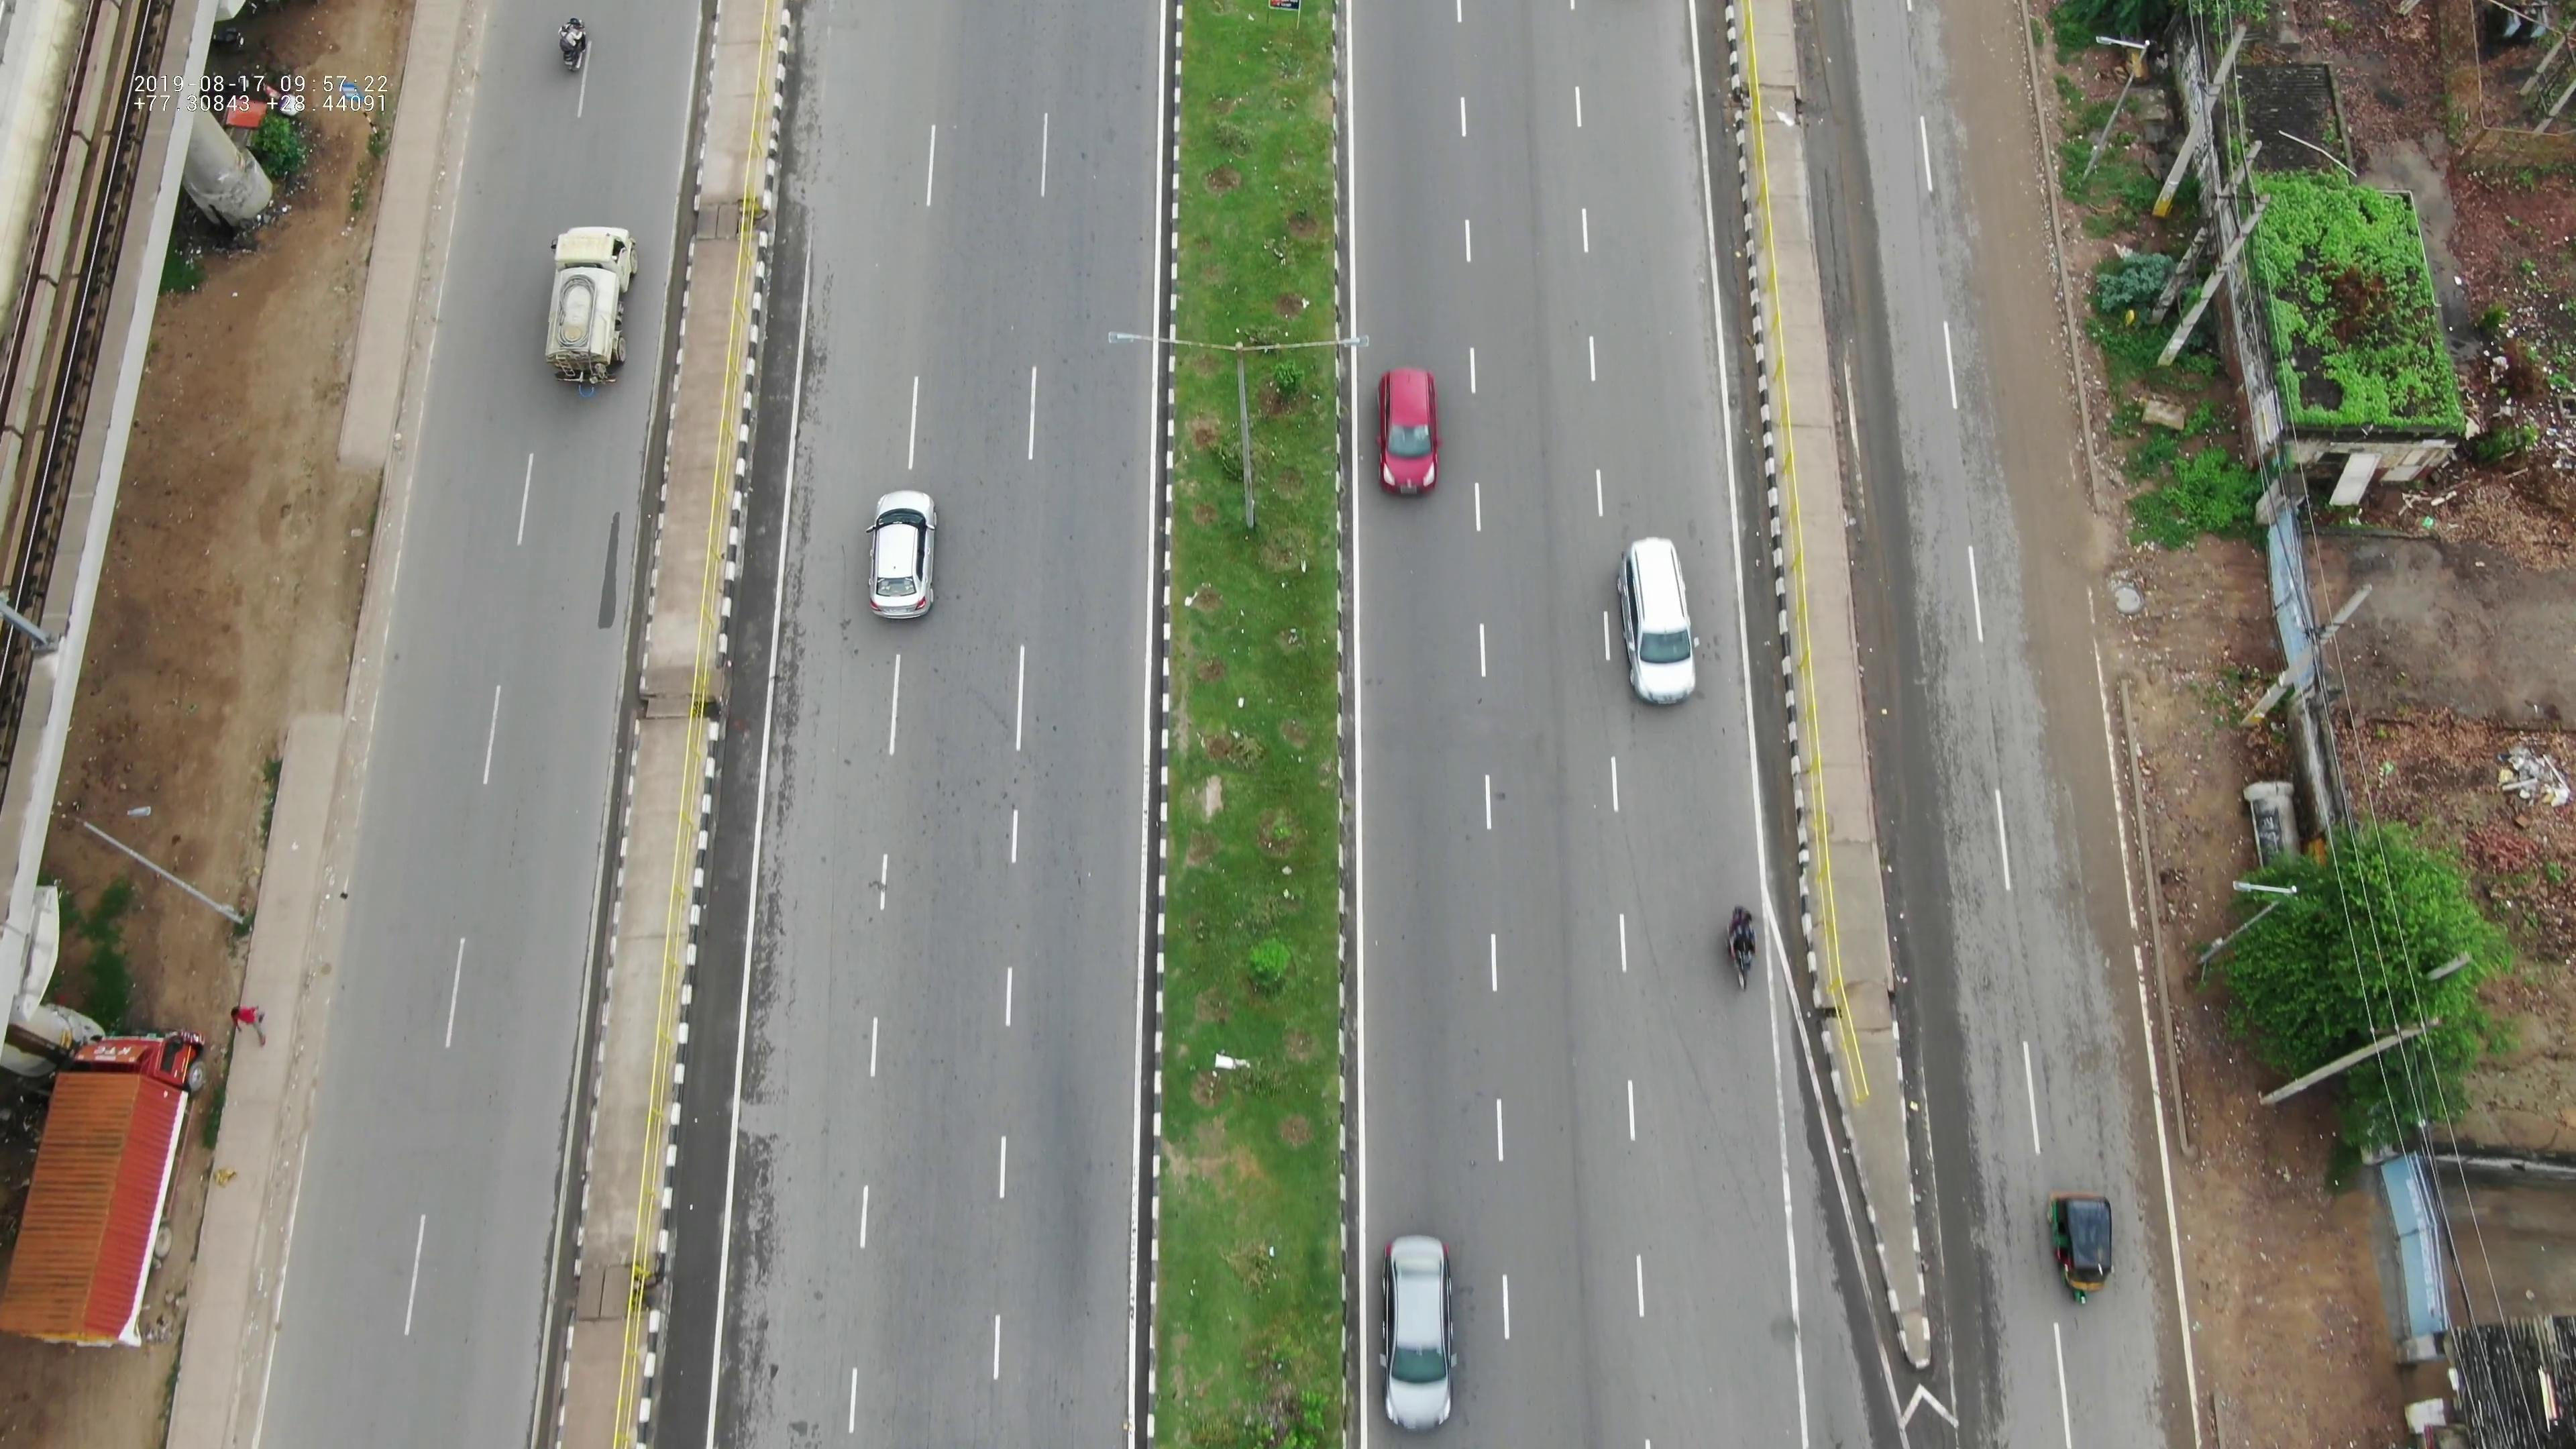Muddy_road: (1982, 361, 2132, 685), (1941, 12, 2088, 318)
